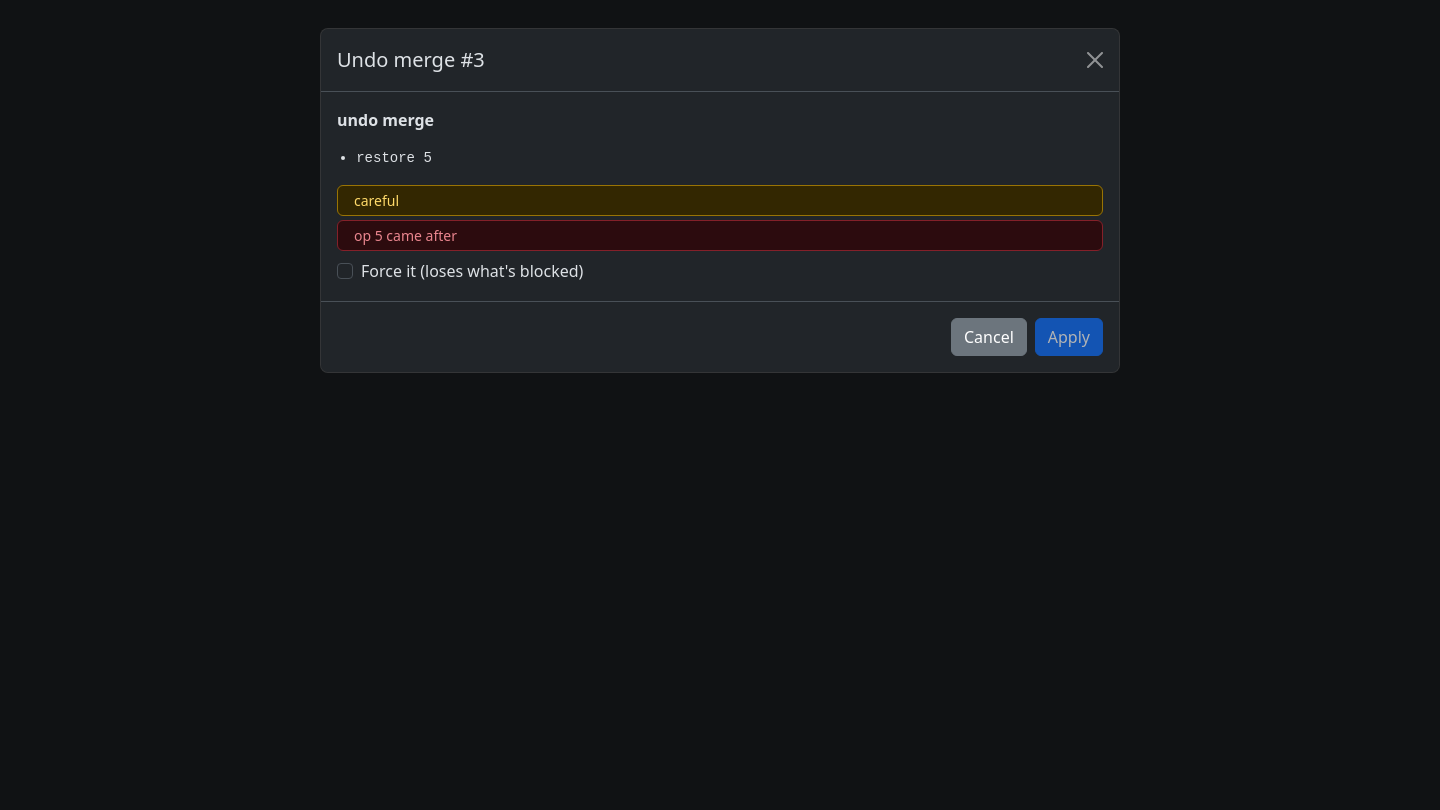
Scenario: PlanDialog › shows the plan; a blocked one applies only forced
The image size is (1440, 810).
Expected: the text with test id "plan-summary" reads "undo merge", [337,109,434,131]
Expected: the list with test id "plan-lines" reads "restore 5", [356,150,432,166]
Click the checkbox labelled "Force it (loses what's blocked)" at (345, 271), box [337,263,353,279]
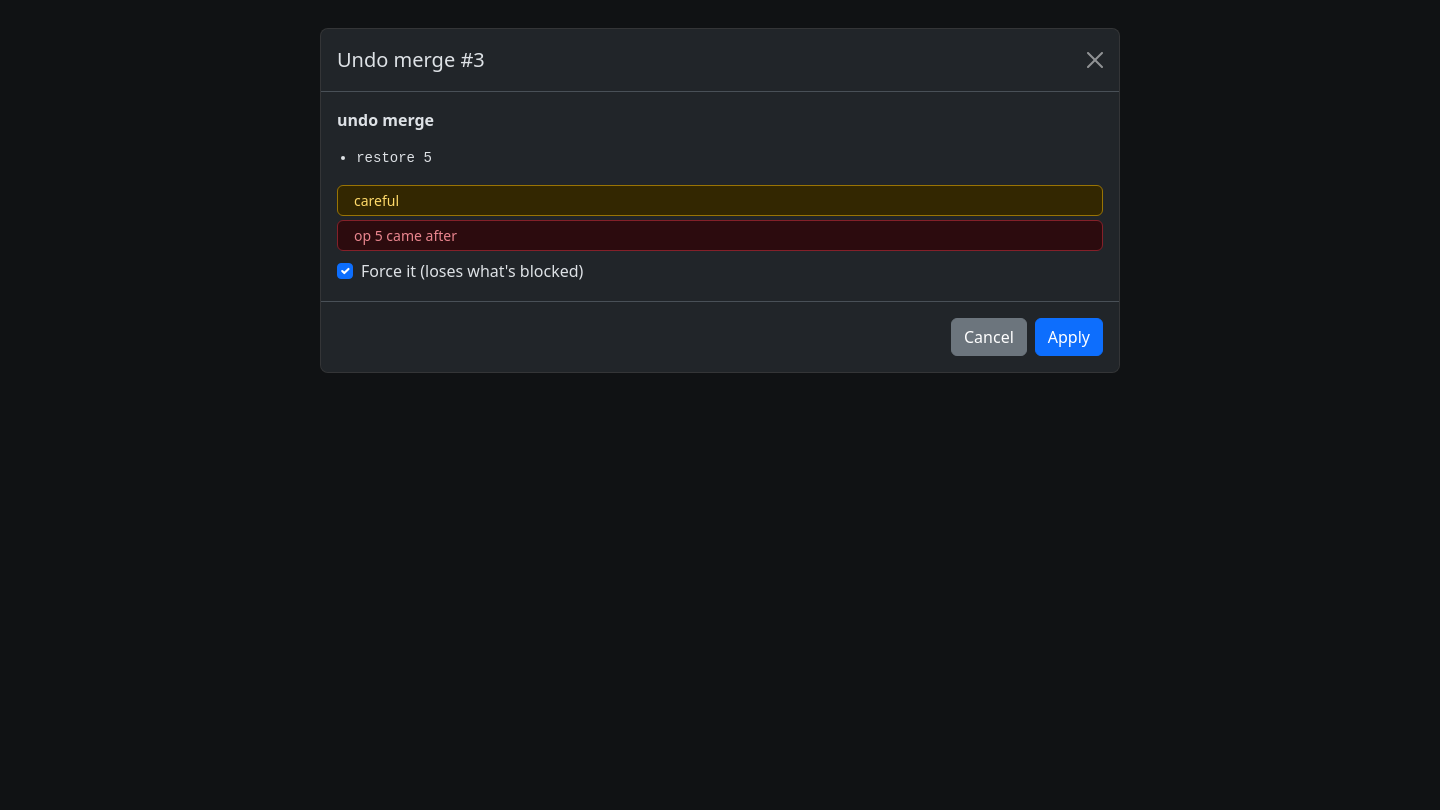
Expected: the button with test id "plan-apply" is enabled
Click the button with test id "plan-apply" at (1069, 337), box [1035,318,1103,356]
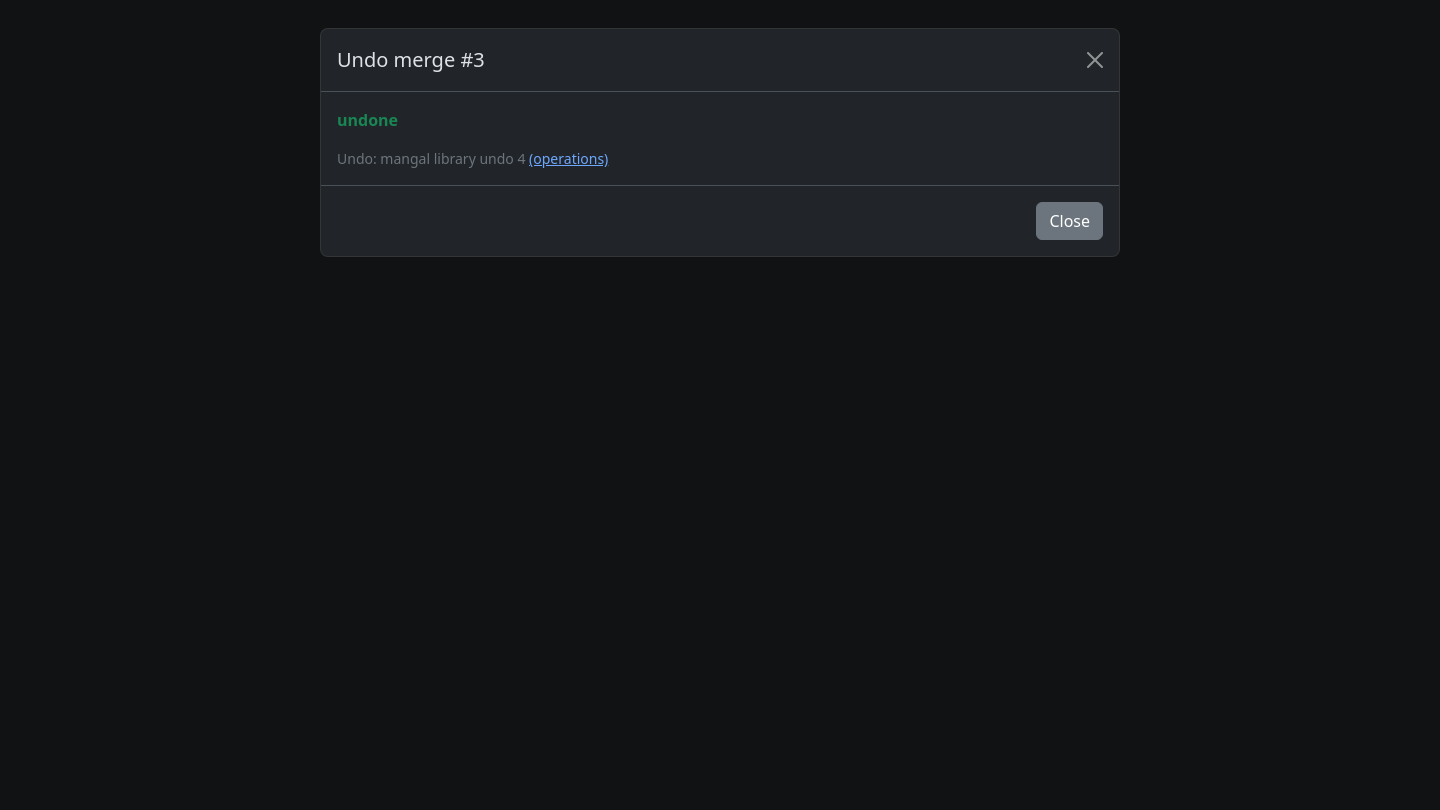
Expected: the element with test id "plan-done" shows "undone", [337,109,398,131]
Expected: the element with test id "plan-undo" shows "mangal library undo 4", [337,149,529,168]
